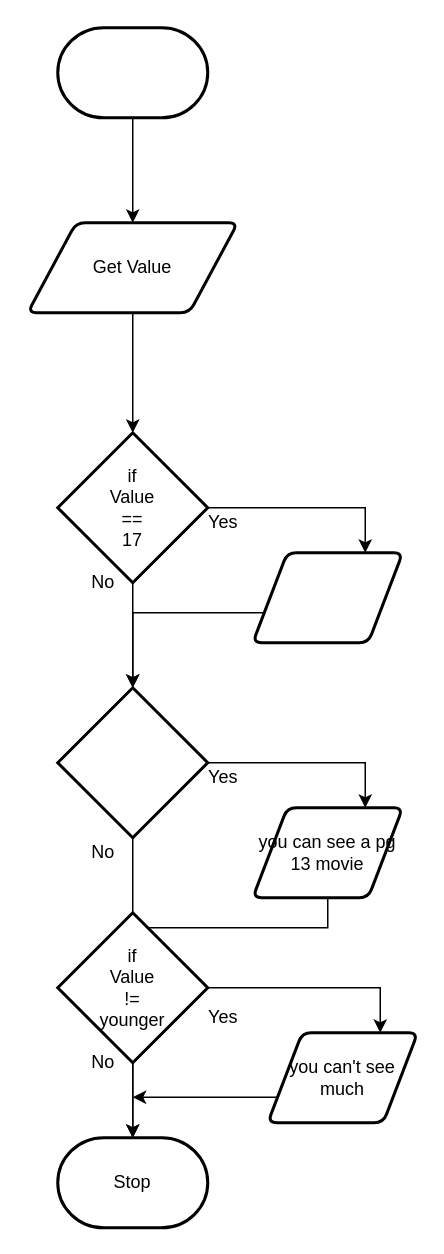
This 444x1254 diagram has some shape labels left out. Each missing label, with the centre of its shape:
"if Value != 13" goes at point (132, 762).
"Start" goes at point (132, 72).
"you can see a r movie" goes at point (327, 597).
